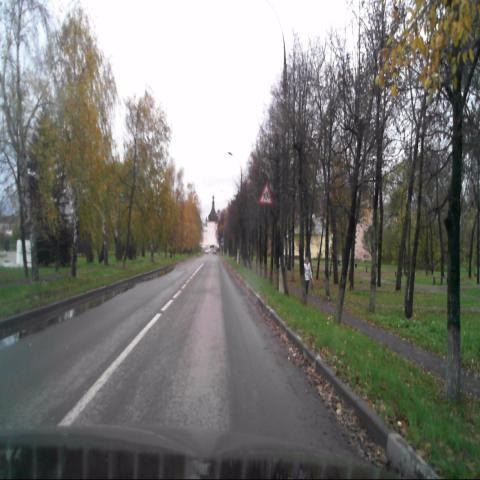1_23: (259, 182, 272, 205)
